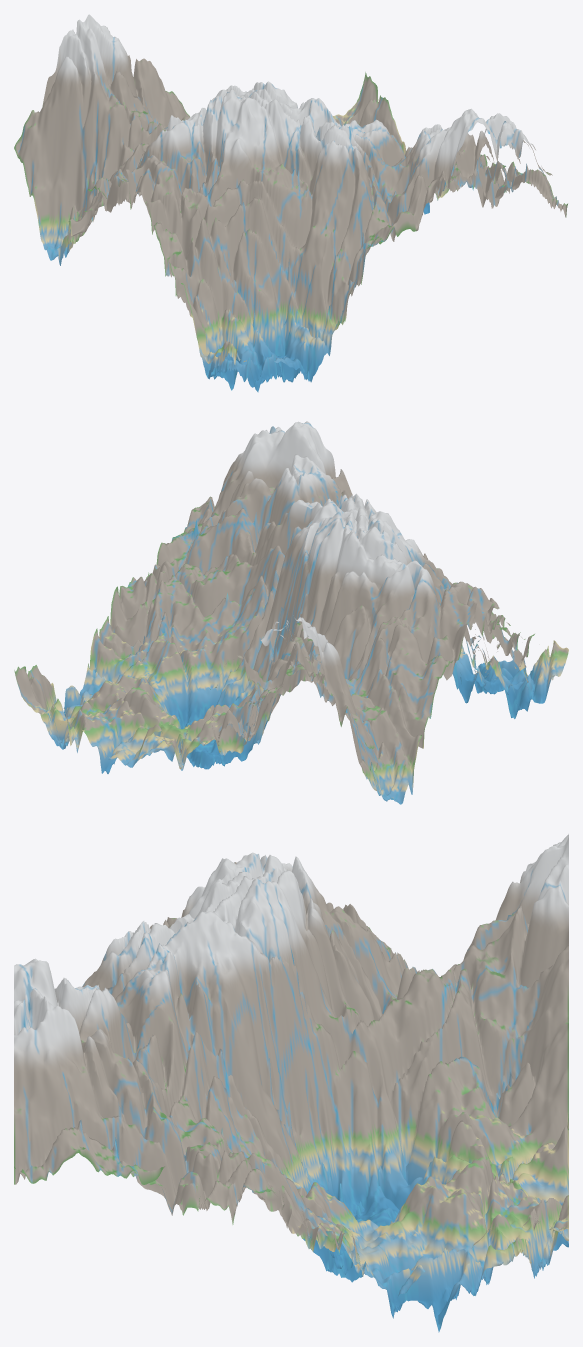
Rendered from Archipelago.glb.
The picture shows the model from 3 angles, top to bottom: view 1: azimuth 30°, elevation 25°; view 2: azimuth 150°, elevation 25°; view 3: azimuth 270°, elevation 25°; orthographic projection. The views are drawn at different scales.
Parts seen in each view (by area): view 1: Terrain; view 2: Terrain; view 3: Terrain.
Boxes of the visible parts, <box> form: Terrain: <box>14,14,567,392</box>; Terrain: <box>14,421,568,804</box>; Terrain: <box>14,834,568,1332</box>.
Size of the model in its own units: 20 by 13.23 by 20.
